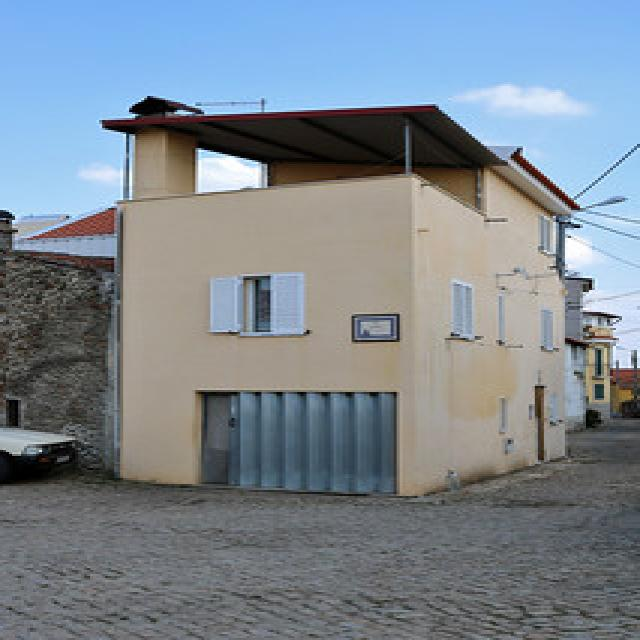building: (96, 91, 583, 505)
